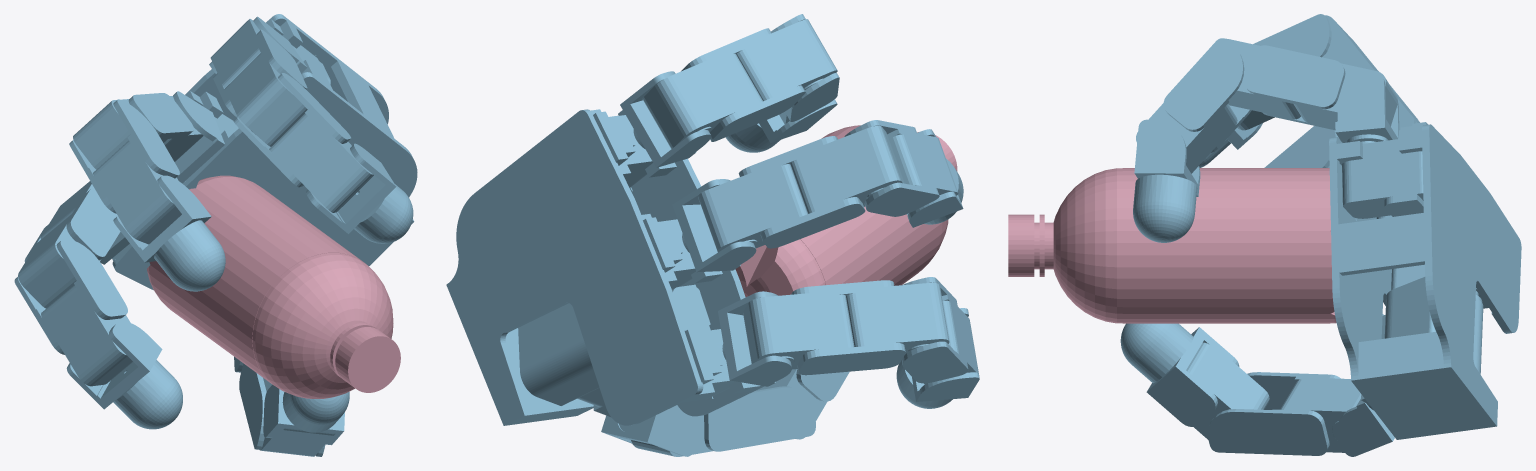
3 renders of one model, left to right at view 1: azimuth 30°, elevation 25°; view 2: azimuth 150°, elevation 25°; view 3: azimuth 270°, elevation 25°, orthographic. The views are drawn at different scales.
Visible parts, largest first — view 1: world, water_bottle.stl; view 2: world, water_bottle.stl; view 3: world, water_bottle.stl.
Part boxes in pixels (bbox=[...]): world: bbox=[14, 14, 417, 456]; water_bottle.stl: bbox=[147, 175, 400, 398]; world: bbox=[446, 14, 979, 456]; water_bottle.stl: bbox=[735, 125, 957, 296]; world: bbox=[1120, 14, 1521, 456]; water_bottle.stl: bbox=[1008, 168, 1336, 323].
Bounding box in the file's own units: 0.1886 × 0.1694 × 0.1983.
